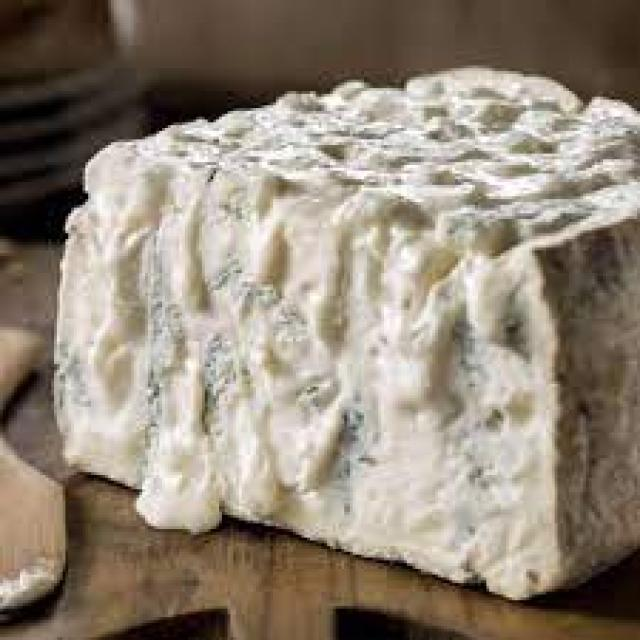Cheese: (54, 71, 640, 569)
